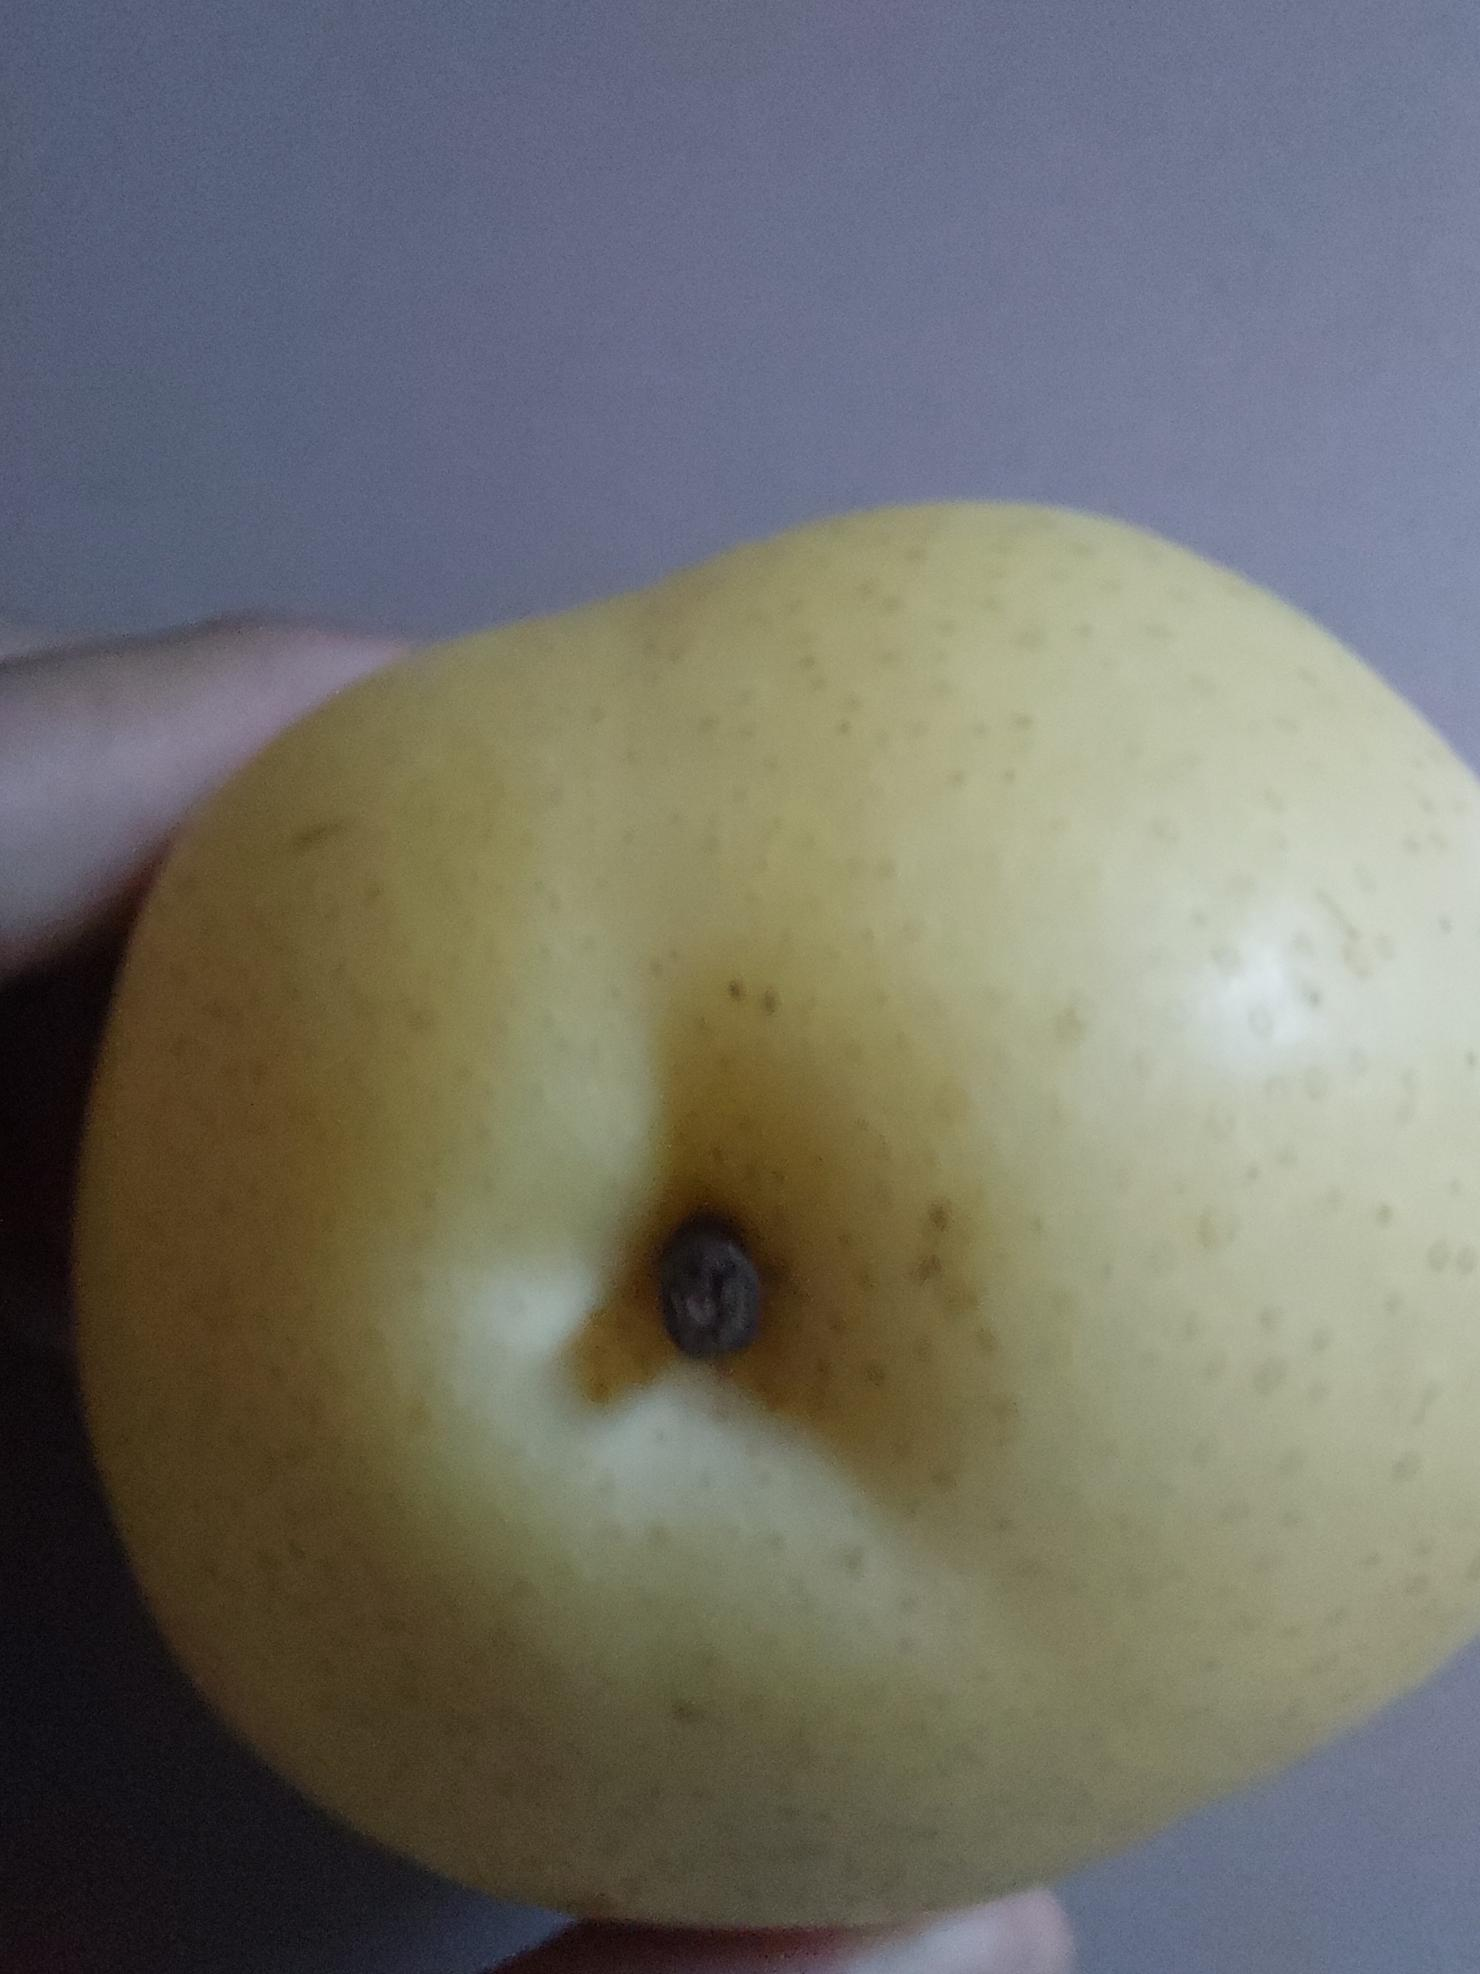Good Pear: (75, 494, 1480, 1938)
